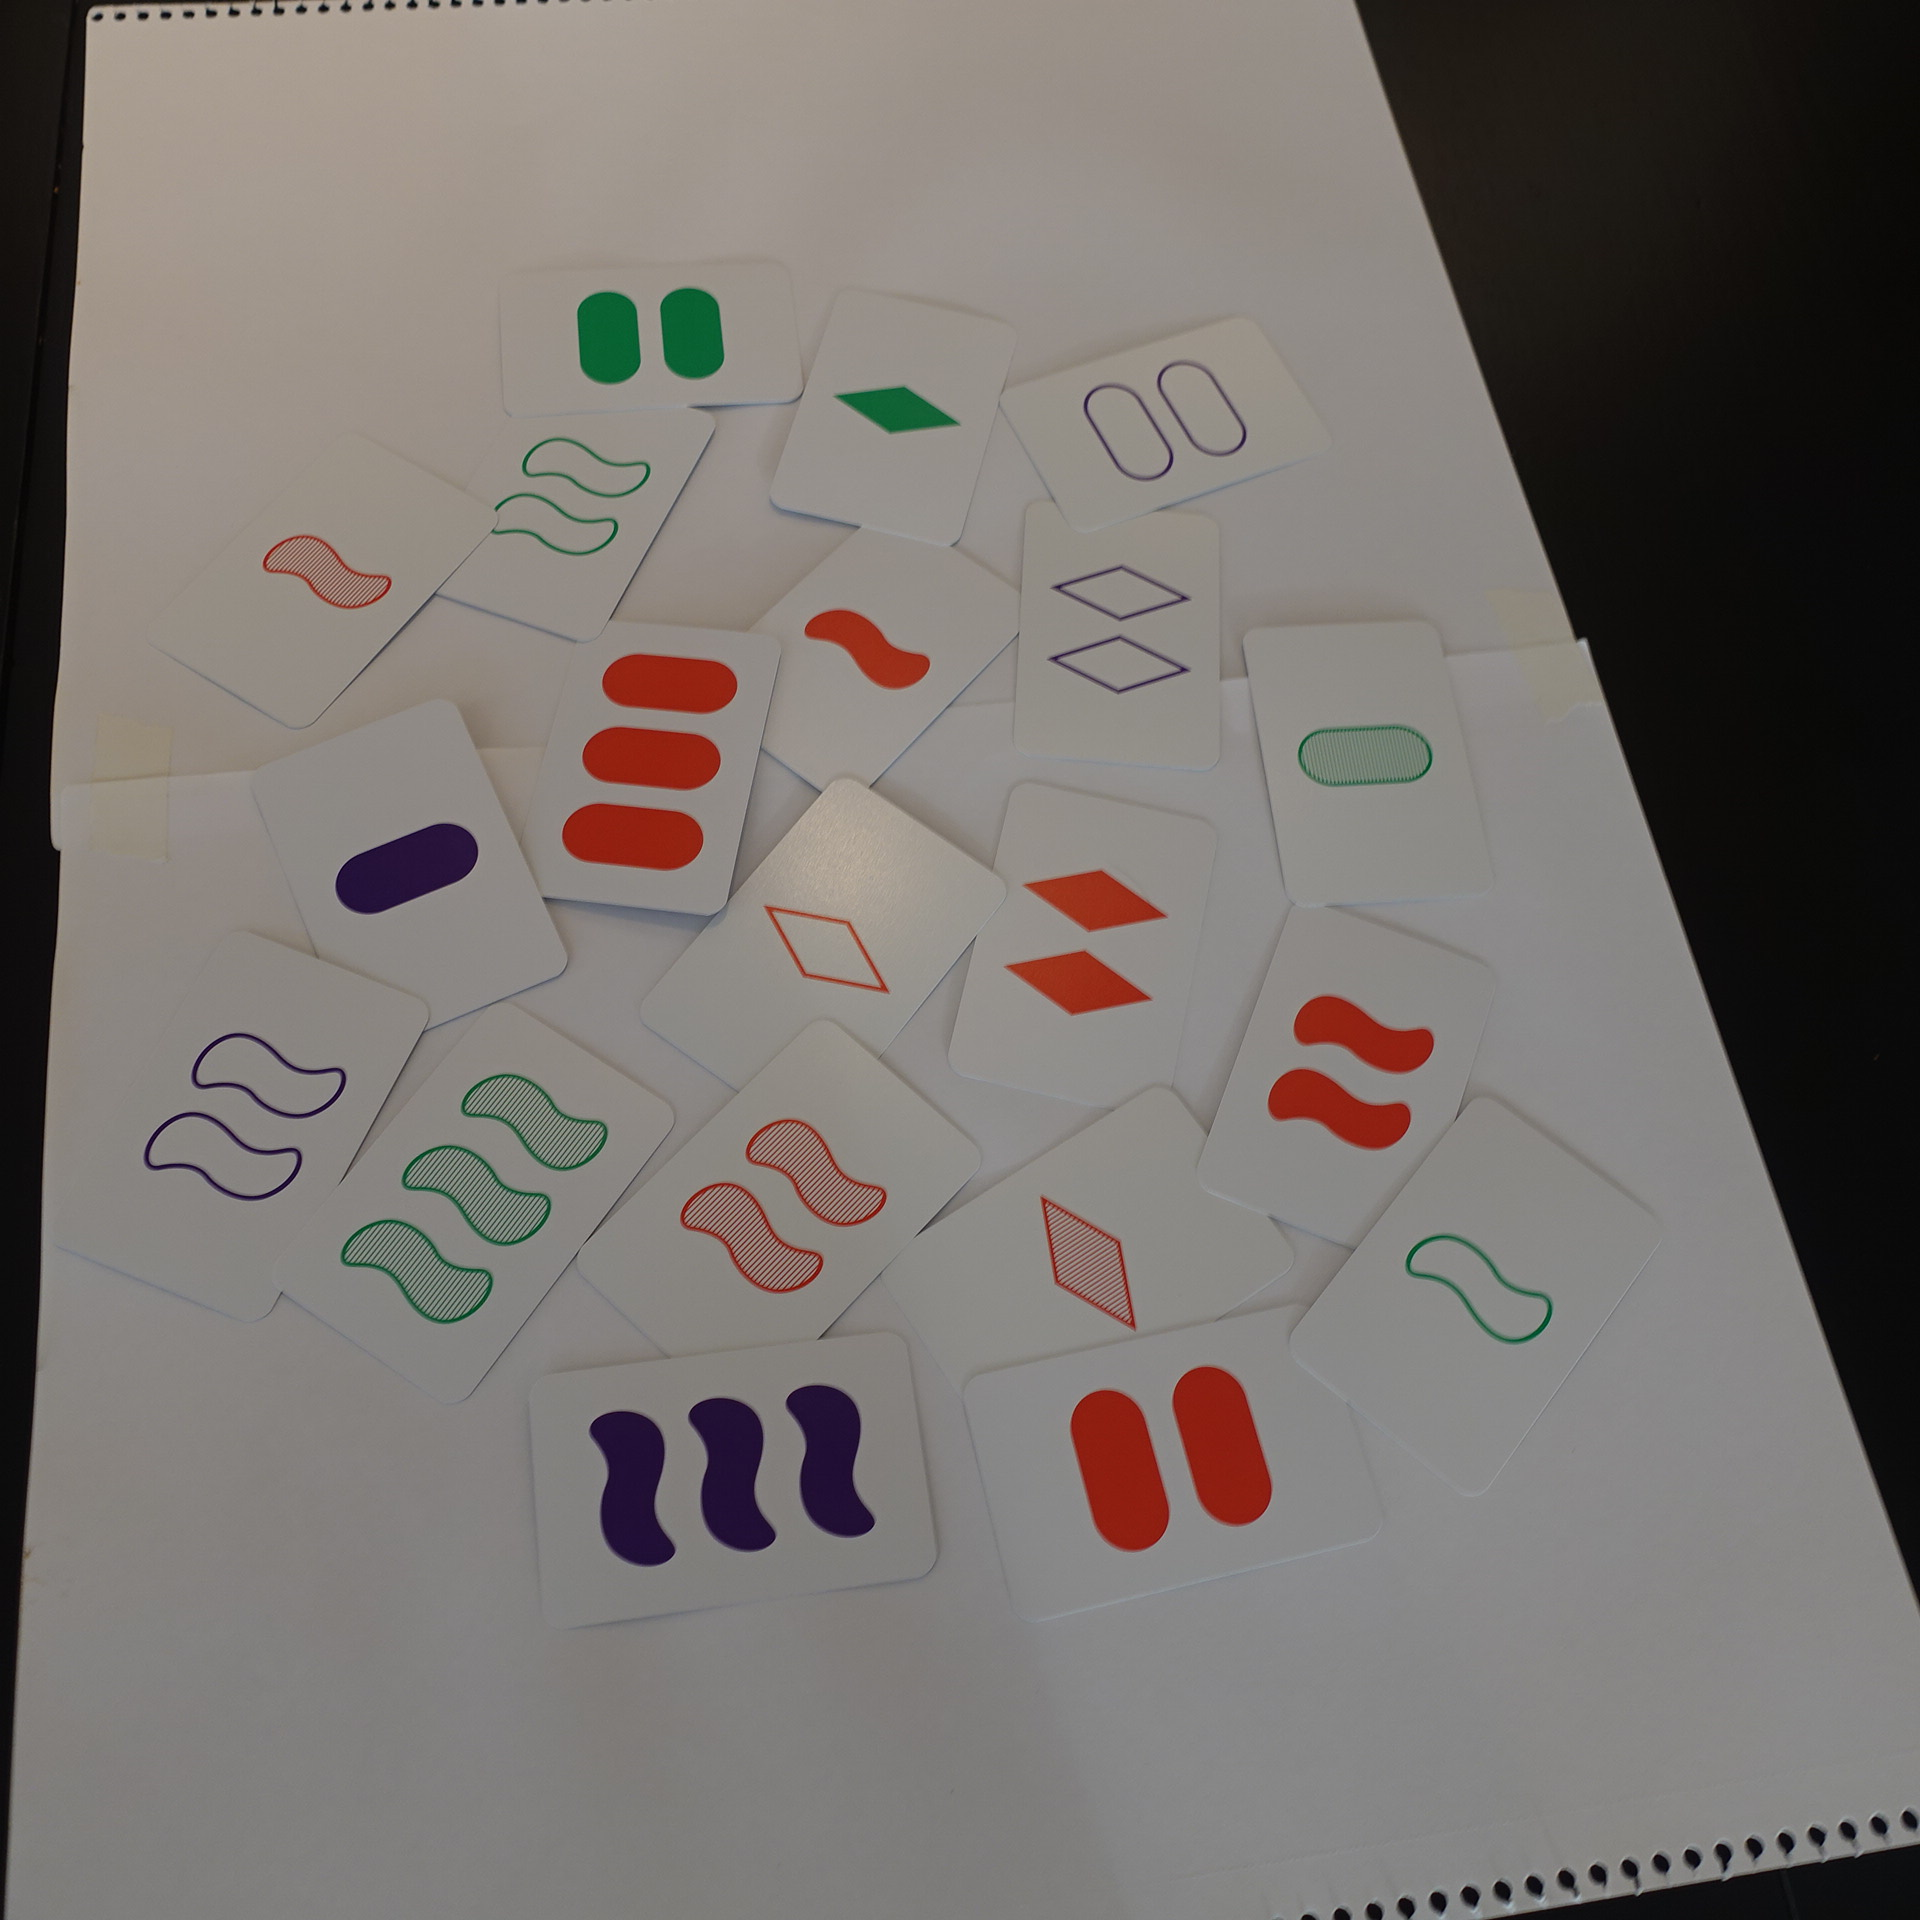c-1-f-d-g: (774, 290, 1020, 545)
c-1-f-o-p: (246, 698, 571, 1029)
c-1-f-s-r: (707, 522, 1018, 802)
c-1-h-d-r: (879, 1085, 1303, 1400)
c-1-h-o-g: (1233, 614, 1502, 916)
c-1-h-s-r: (141, 422, 501, 726)
c-1-u-d-r: (635, 775, 1004, 1115)
c-1-u-s-g: (1292, 1094, 1662, 1496)
c-2-f-d-r: (949, 782, 1222, 1118)
c-2-f-o-g: (498, 262, 811, 411)
c-2-f-o-r: (962, 1306, 1389, 1626)
c-2-f-s-r: (1197, 902, 1509, 1257)
c-2-h-s-r: (580, 1025, 979, 1385)
c-2-u-d-p: (1013, 499, 1227, 770)
c-2-u-o-p: (1002, 313, 1336, 531)
c-2-u-s-g: (420, 380, 719, 636)
c-2-u-s-p: (53, 935, 420, 1322)
c-3-f-o-r: (519, 621, 781, 918)
c-3-f-s-p: (526, 1333, 942, 1626)
c-3-h-s-g: (264, 995, 677, 1405)
